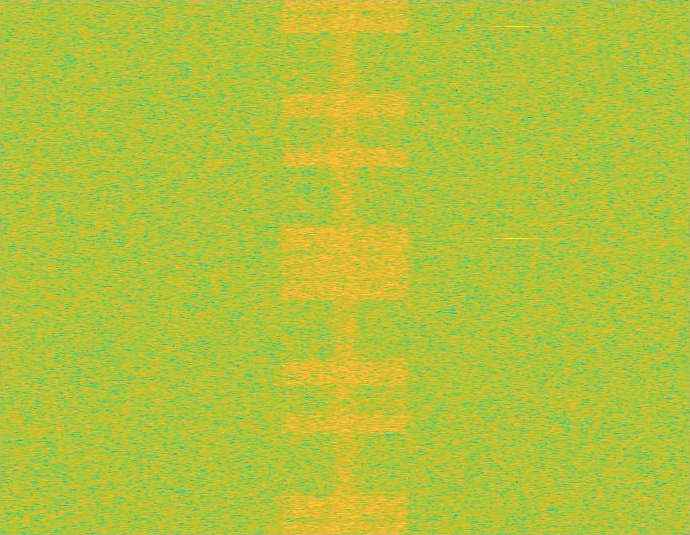DSSS: (329, 0, 361, 534)
LTE: (276, 0, 414, 534)
Radar: (510, 0, 524, 534)
